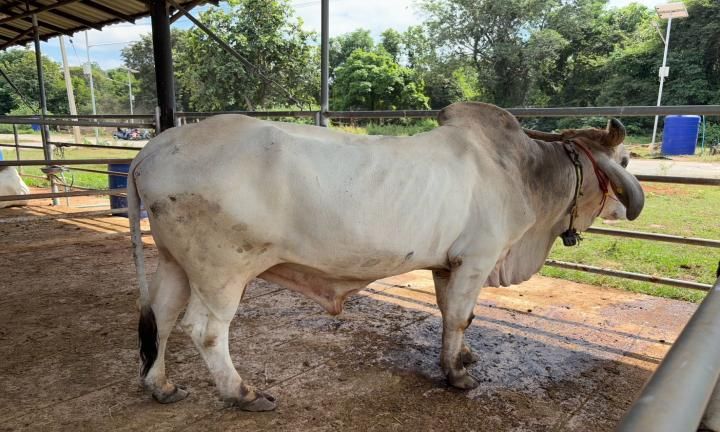Brahman: (127, 102, 644, 410)
